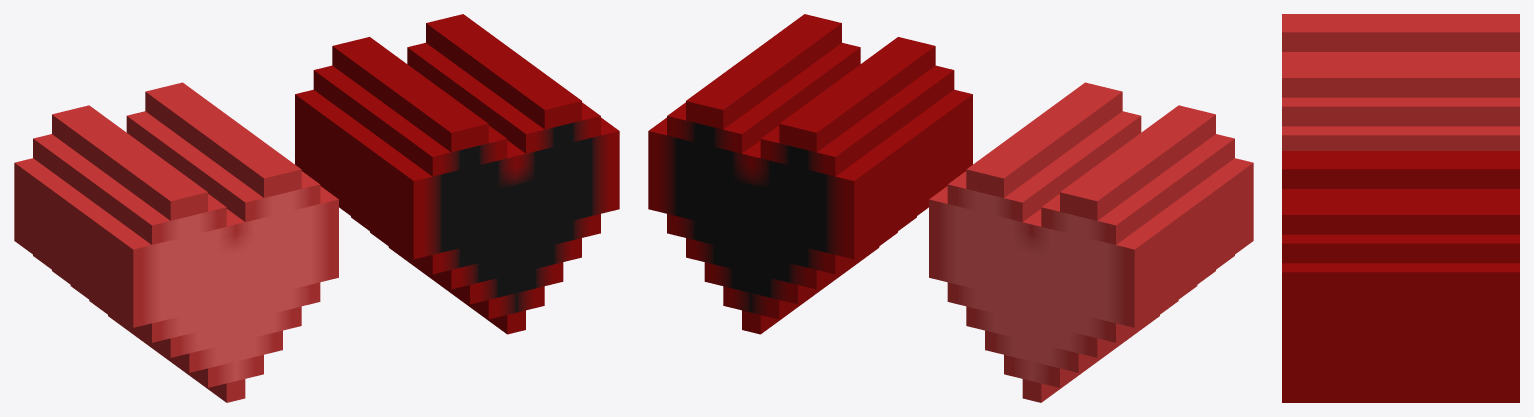
The model's file is ld32_art.dae.
3 views of the same model, side by side, from view 1: azimuth 30°, elevation 25°; view 2: azimuth 150°, elevation 25°; view 3: azimuth 270°, elevation 25° (orthographic).
Visible parts, largest first — view 1: Box_39, Box_40; view 2: Box_39, Box_40; view 3: Box_40, Box_39.
Part boxes in pixels (x1,y1,x2,y2): Box_39: (14, 82, 338, 402); Box_40: (295, 14, 619, 334); Box_39: (929, 82, 1253, 402); Box_40: (648, 14, 972, 334); Box_40: (1282, 151, 1519, 402); Box_39: (1282, 14, 1519, 150).
Size of the model in its own units: 26 by 11 by 11.
1 material, 1 textured.
